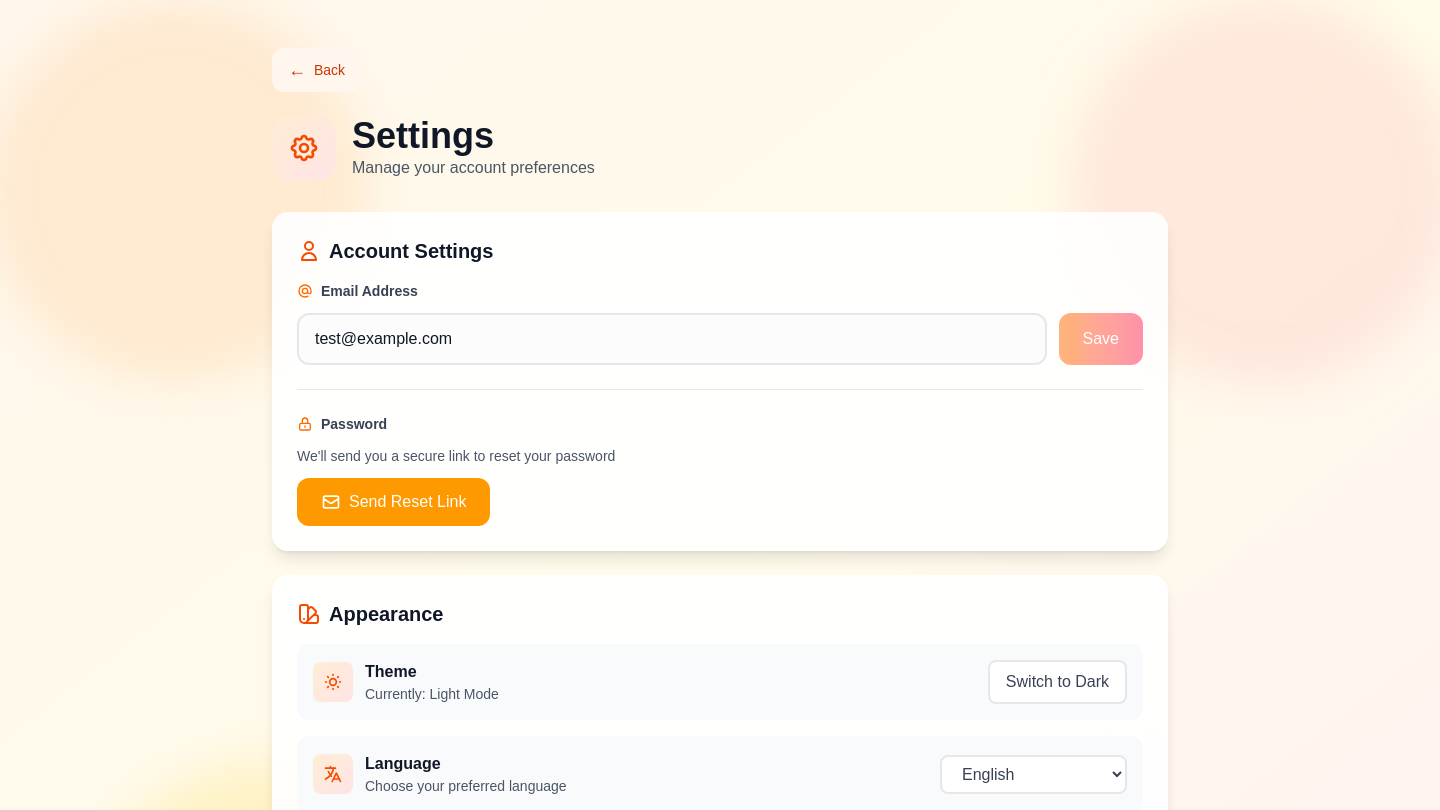
toggles theme
Expected: the field showing "test@example.com" is shown, [297,313,1046,365]
Click the button "Switch to Dark": (1057, 682) [988,660,1127,704]
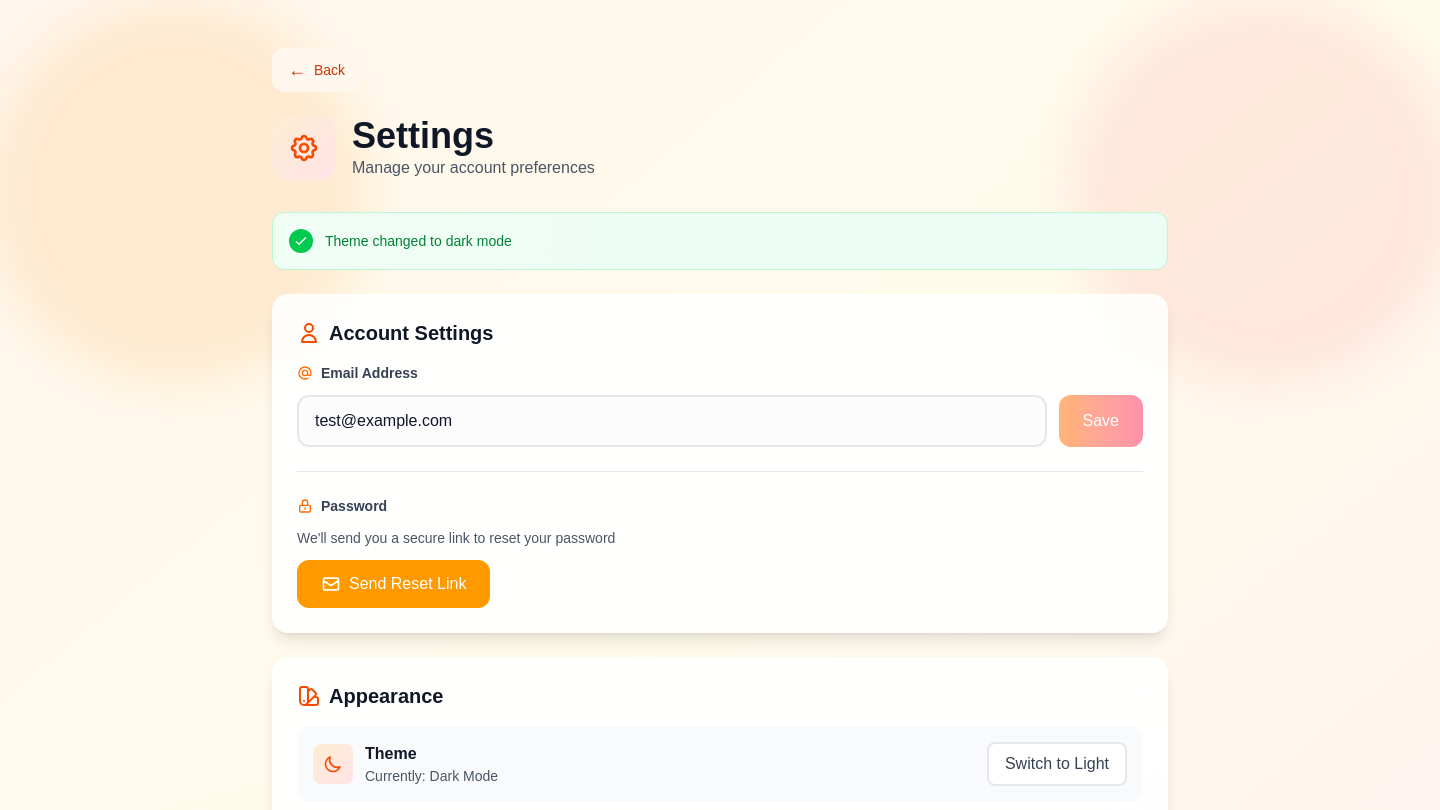
Expected: the text "Currently: Dark Mode" is shown, [365,766,498,786]
